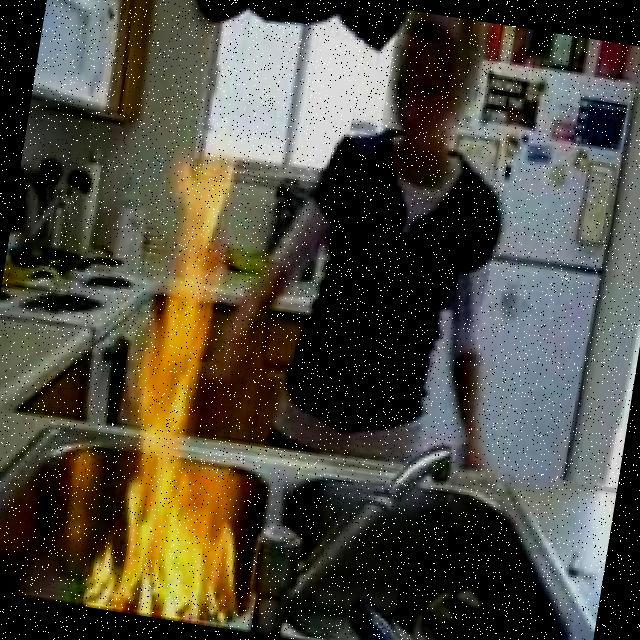Fire: (101, 158, 298, 629)
